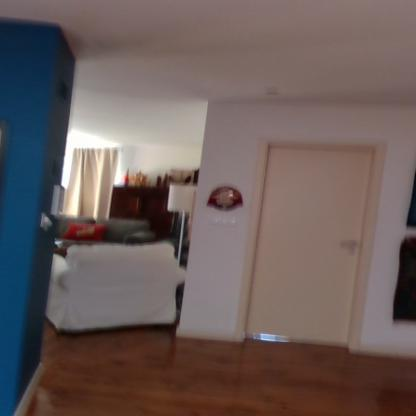door: (248, 140, 368, 344)
lever: (336, 239, 358, 247)
